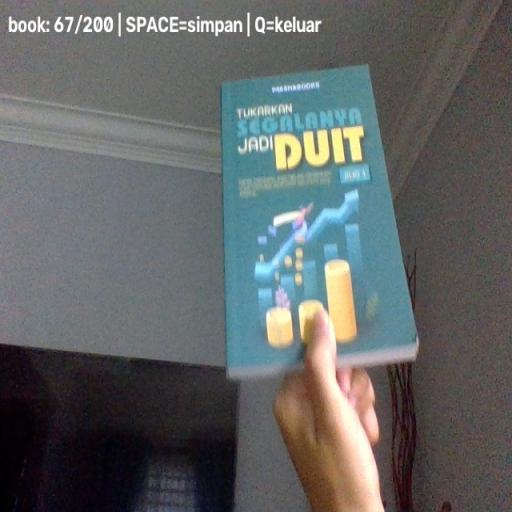Book: (220, 63, 419, 381)
